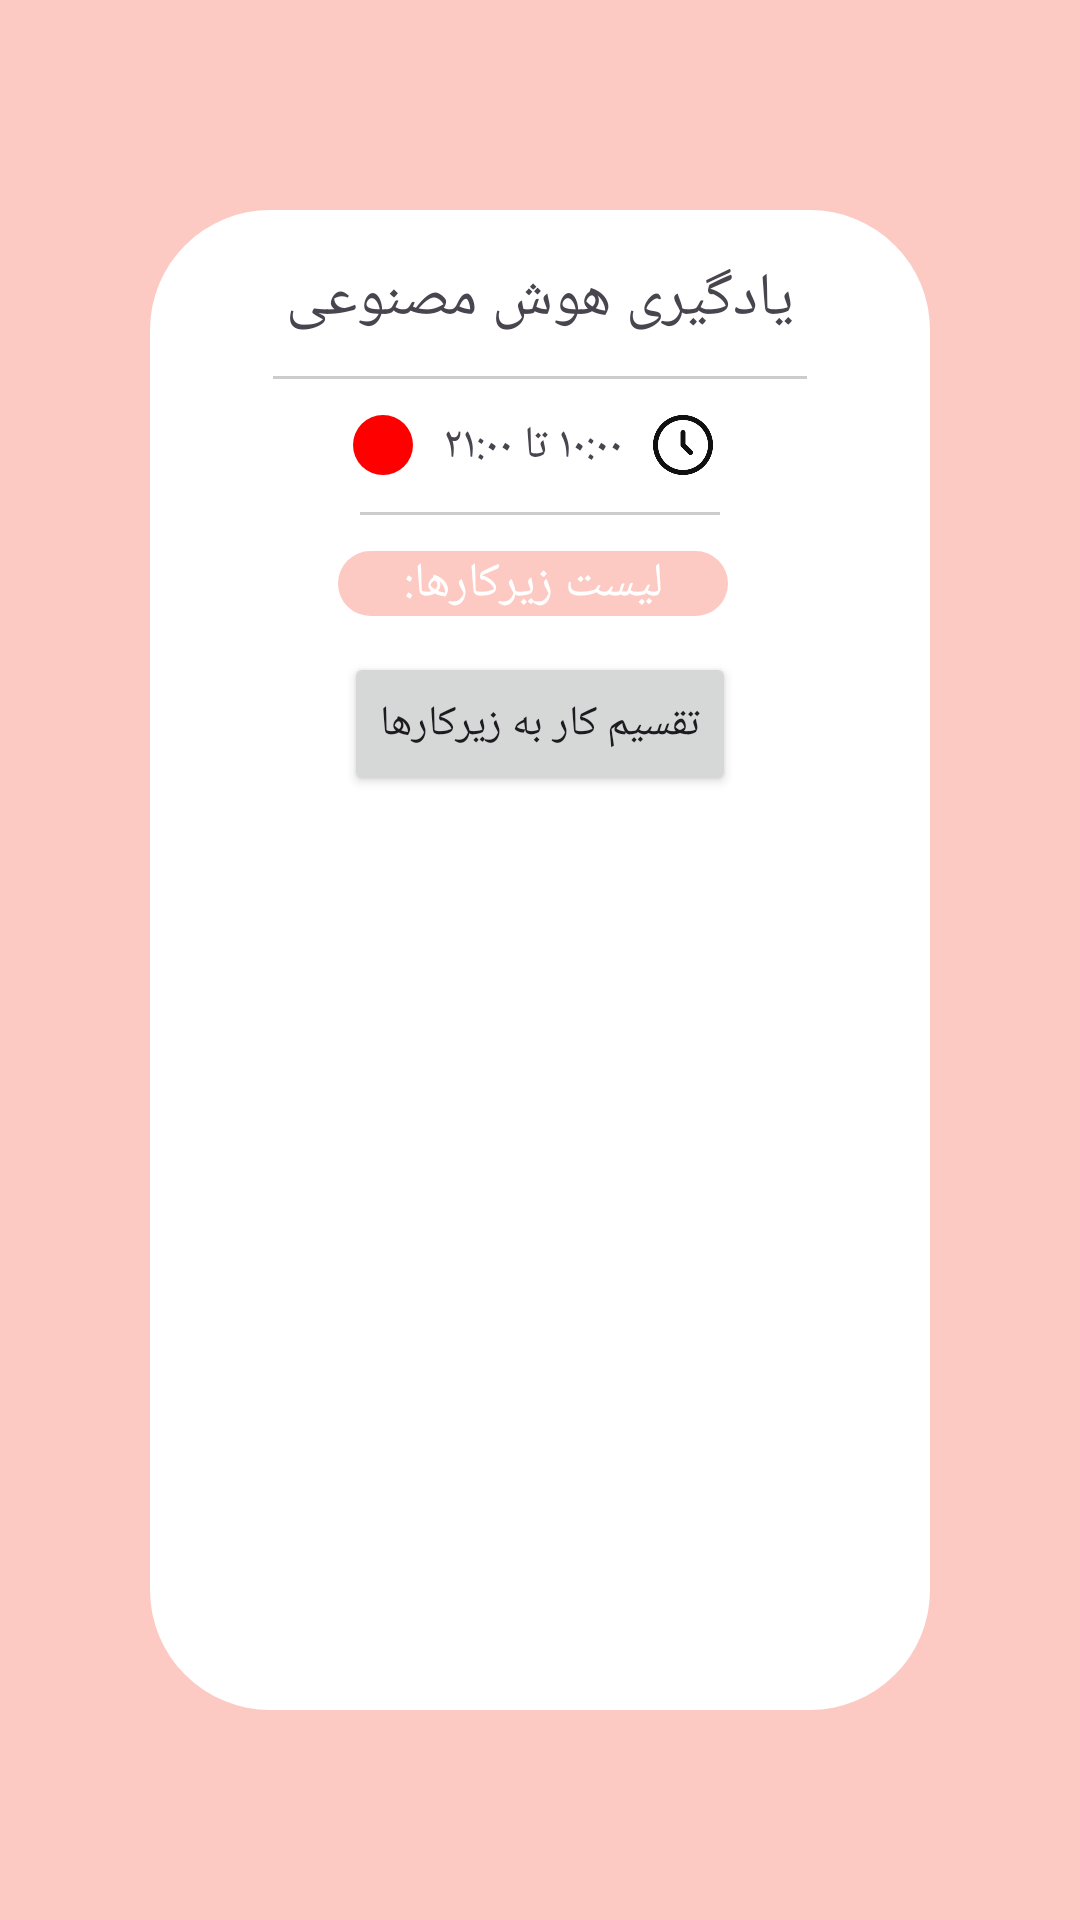

Icons on this 1080×1920 Android screen, each with the point to tap as (x=x, y=y):
clock: (x=683, y=445)
